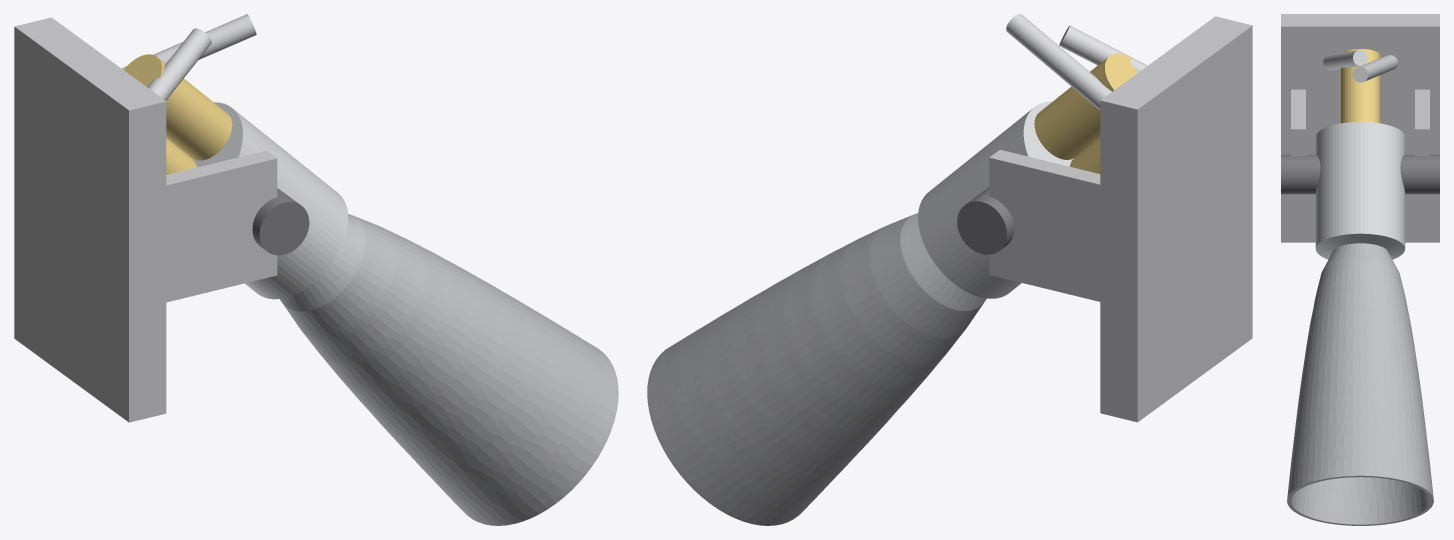
The model's file is prop17_vernier_swivel_neg.glb.
3 renders of one model, left to right at view 1: azimuth 30°, elevation 25°; view 2: azimuth 150°, elevation 25°; view 3: azimuth 270°, elevation 25°, orthographic. The views are drawn at different scales.
Parts seen in each view (by area): view 1: bracket, nozzle_bell, nozzle_chamber, nozzle_valves, feed_lines, swivel_axle; view 2: bracket, nozzle_bell, nozzle_chamber, nozzle_valves, feed_lines, swivel_axle; view 3: nozzle_bell, bracket, nozzle_chamber, swivel_axle, nozzle_valves, feed_lines.
Part boxes in pixels (box(x1,y1,x2,y2)): bracket: box(14, 17, 277, 422); nozzle_bell: box(280, 214, 618, 525); nozzle_chamber: box(193, 102, 348, 299); nozzle_valves: box(124, 54, 232, 174); feed_lines: box(121, 14, 256, 100); swivel_axle: box(252, 188, 309, 255); bracket: box(989, 16, 1252, 422); nozzle_bell: box(647, 213, 986, 525); nozzle_chamber: box(918, 101, 1073, 298); nozzle_valves: box(1034, 53, 1137, 173); feed_lines: box(1006, 14, 1147, 110); swivel_axle: box(957, 187, 1013, 254); nozzle_bell: box(1287, 243, 1433, 525); bracket: box(1281, 14, 1439, 242); nozzle_chamber: box(1315, 121, 1405, 259); swivel_axle: box(1281, 154, 1439, 194); nozzle_valves: box(1340, 49, 1380, 123); feed_lines: box(1323, 50, 1397, 82).
Size of the model in its own units: 0.4248 by 0.4273 by 0.16.
